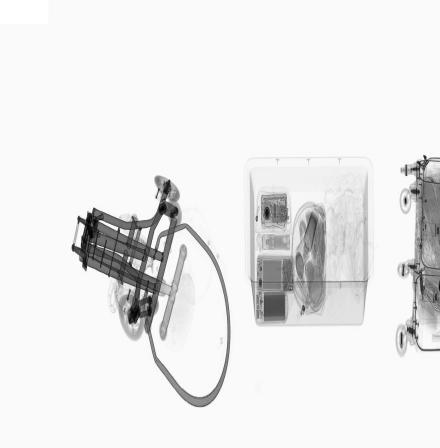Powerbank: (257, 290, 288, 325)
